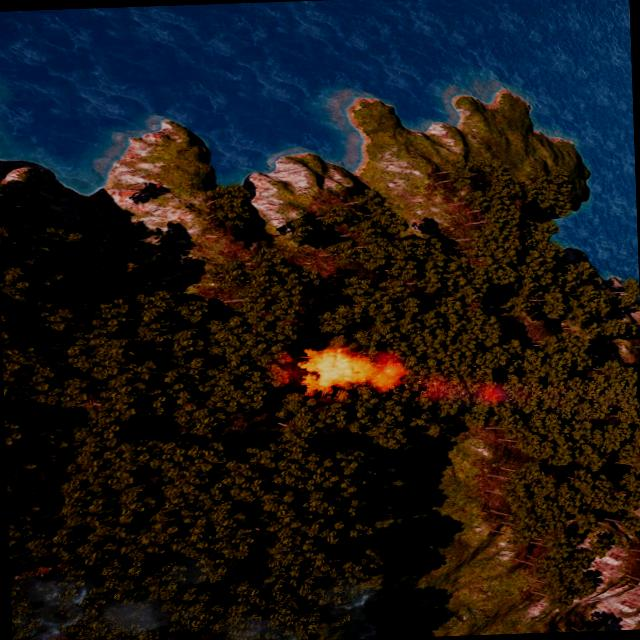fire: (297, 343, 398, 392)
smoke: (8, 565, 170, 640), (219, 583, 387, 640), (412, 369, 540, 404)
